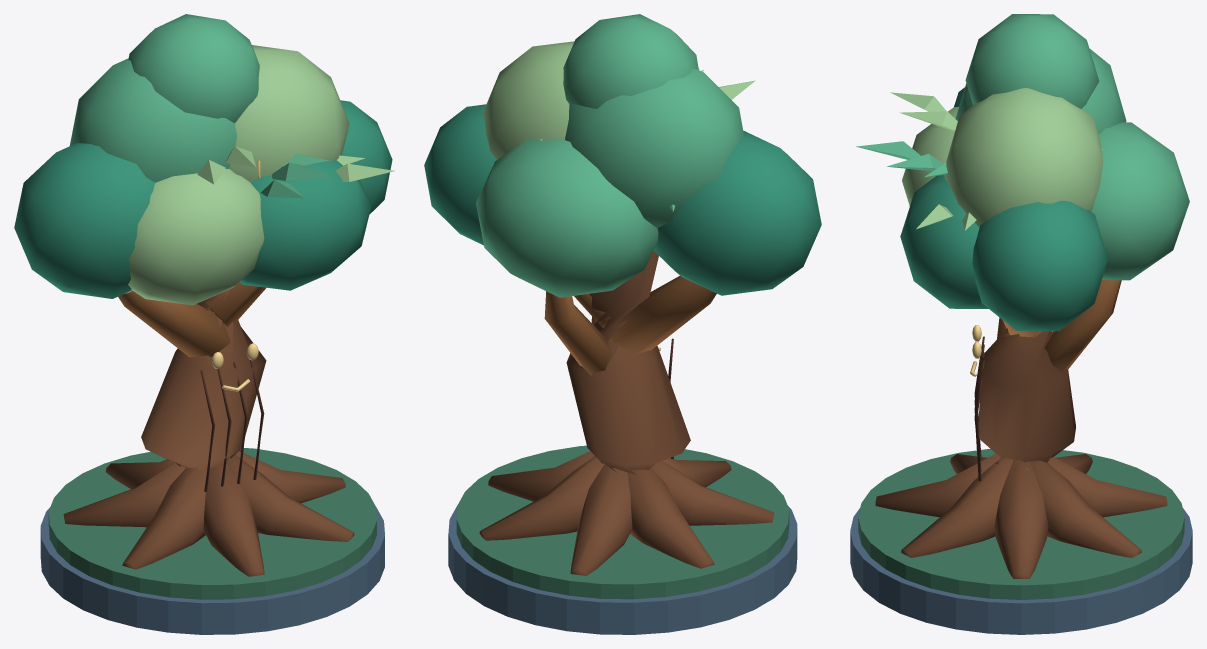
The model's file is elder-tree.glb.
3 views of the same model, side by side, from view 1: azimuth 30°, elevation 25°; view 2: azimuth 150°, elevation 25°; view 3: azimuth 270°, elevation 25° (orthographic). The views are drawn at different scales.
Parts seen in each view (by area): view 1: Elder • moss island, Elder • layered crown 00, Elder • layered crown 05, Elder • slate island, Elder • layered crown 01, Elder • curved trunk, Elder • layered crown 06, Elder • layered crown 02, Elder • layered crown 07, Elder • spreading root 05, Elder • spreading root 04, Elder • spreading root 06 (+8 smaller); view 2: Elder • moss island, Elder • layered crown 04, Elder • layered crown 00, Elder • layered crown 01, Elder • slate island, Elder • curved trunk, Elder • layered crown 07, Elder • layered crown 02, Elder • layered crown 03, Elder • spreading root 02, Elder • spreading root 03, Elder • spreading root 01 (+5 smaller); view 3: Elder • moss island, Elder • layered crown 02, Elder • layered crown 03, Elder • slate island, Elder • layered crown 04, Elder • curved trunk, Elder • layered crown 07, Elder • layered crown 06, Elder • spreading root 00, Elder • spreading root 06, Elder • spreading root 01, Elder • story branch 02 (+8 smaller).
Part boxes in pixels (<box>): Elder • moss island: <box>48,448,376,599</box>; Elder • layered crown 00: <box>14,143,155,298</box>; Elder • layered crown 05: <box>128,169,264,305</box>; Elder • slate island: <box>40,507,384,634</box>; Elder • layered crown 01: <box>69,58,236,182</box>; Elder • curved trunk: <box>141,288,266,535</box>; Elder • layered crown 06: <box>239,160,371,290</box>; Elder • layered crown 02: <box>229,45,349,182</box>; Elder • layered crown 07: <box>128,14,259,122</box>; Elder • spreading root 05: <box>203,457,264,576</box>; Elder • spreading root 04: <box>122,466,228,569</box>; Elder • spreading root 06: <box>213,455,354,541</box>; Elder • moss island: <box>456,445,789,599</box>; Elder • layered crown 04: <box>476,139,658,297</box>; Elder • layered crown 00: <box>653,130,821,295</box>; Elder • layered crown 01: <box>565,68,744,228</box>; Elder • slate island: <box>448,505,797,634</box>; Elder • curved trunk: <box>566,250,690,474</box>; Elder • layered crown 07: <box>563,14,698,108</box>; Elder • layered crown 02: <box>482,41,574,159</box>; Elder • layered crown 03: <box>424,104,496,245</box>; Elder • spreading root 02: <box>570,456,632,575</box>; Elder • spreading root 03: <box>627,468,714,568</box>; Elder • spreading root 01: <box>479,456,604,540</box>; Elder • moss island: <box>858,448,1184,599</box>; Elder • layered crown 02: <box>944,88,1103,227</box>; Elder • layered crown 03: <box>972,200,1107,331</box>; Elder • slate island: <box>850,508,1192,634</box>; Elder • layered crown 04: <box>1091,122,1189,280</box>; Elder • curved trunk: <box>978,328,1075,462</box>; Elder • layered crown 07: <box>965,14,1099,108</box>; Elder • layered crown 06: <box>900,175,988,308</box>; Elder • spreading root 00: <box>994,459,1048,578</box>; Elder • spreading root 06: <box>901,458,1029,557</box>; Elder • spreading root 01: <box>1013,460,1141,557</box>; Elder • story branch 02: <box>1044,280,1121,371</box>.
Bounding box in the file's own units: 1.55 × 2.22 × 1.28.
